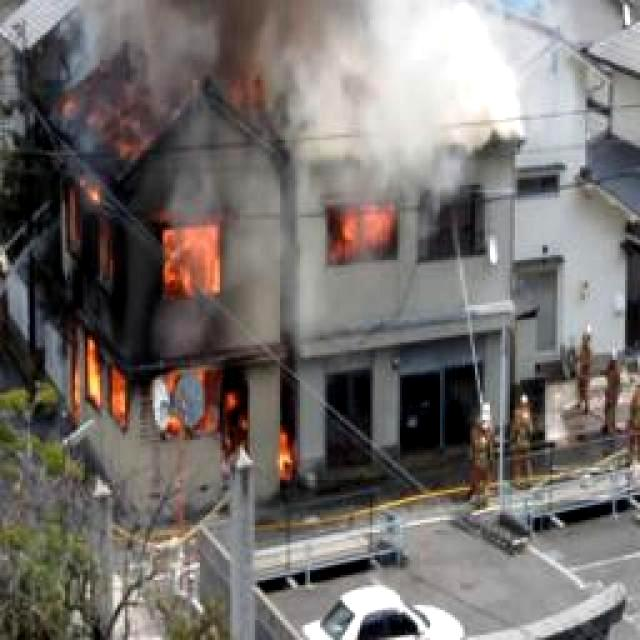helmet: (50, 143, 287, 483), (324, 200, 404, 266)
no_helmet: (81, 0, 531, 154)
